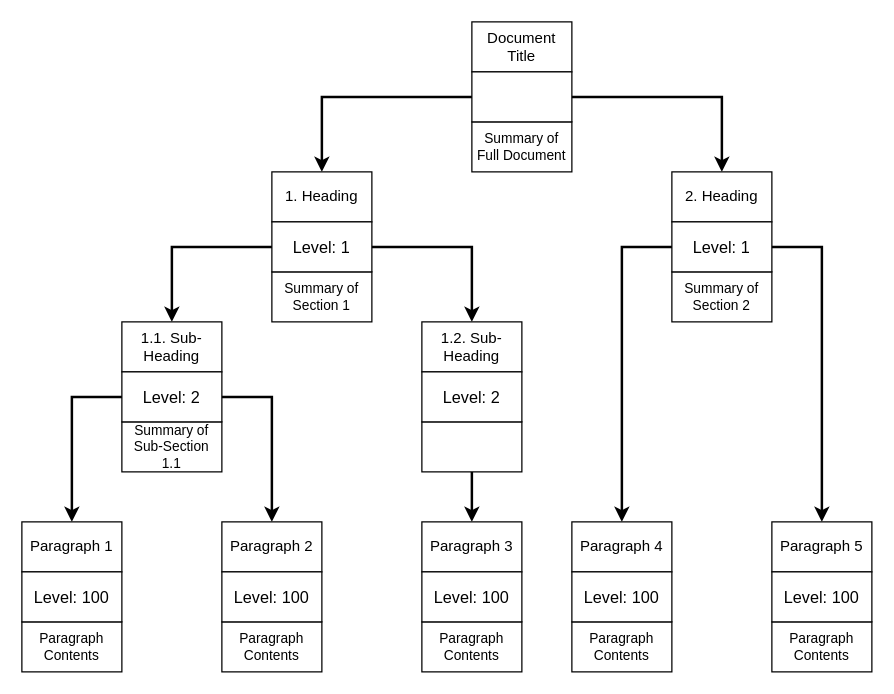
Some shapes in this 894 by 694 pixel diagram are drawn without their labels. Here are the shapes that lost their labels. From the top down, the centre of each, then its label:
(521,96): Level: 0
(471,446): Summary of Sub-Section 1.2
